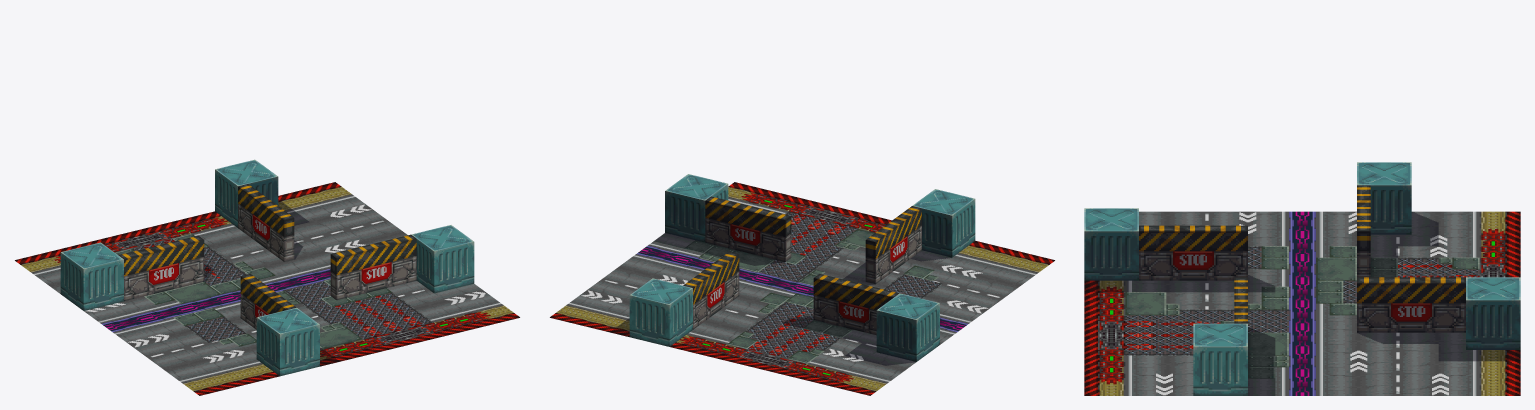
The model's file is battle_highway.glb.
3 views of the same model, side by side, from view 1: azimuth 30°, elevation 25°; view 2: azimuth 150°, elevation 25°; view 3: azimuth 270°, elevation 25° (orthographic). The views are drawn at different scales.
Parts seen in each view (by area): view 1: BH_Ground-col, BH_Blocks-col; view 2: BH_Ground-col, BH_Blocks-col; view 3: BH_Ground-col, BH_Blocks-col.
Boxes of the visible parts, x1,y1,x2,y2 form: BH_Ground-col: [15, 182, 519, 395]; BH_Blocks-col: [60, 159, 474, 376]; BH_Ground-col: [550, 182, 1054, 395]; BH_Blocks-col: [629, 174, 975, 361]; BH_Ground-col: [1084, 211, 1520, 395]; BH_Blocks-col: [1084, 162, 1520, 395].
Size of the model in its own units: 4 by 2 by 4.
Materials: 2 (1 with a texture image).
